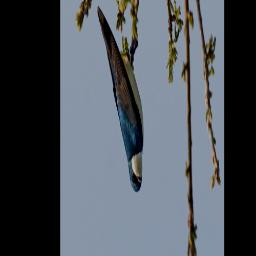Swallow: (95, 3, 146, 200)
